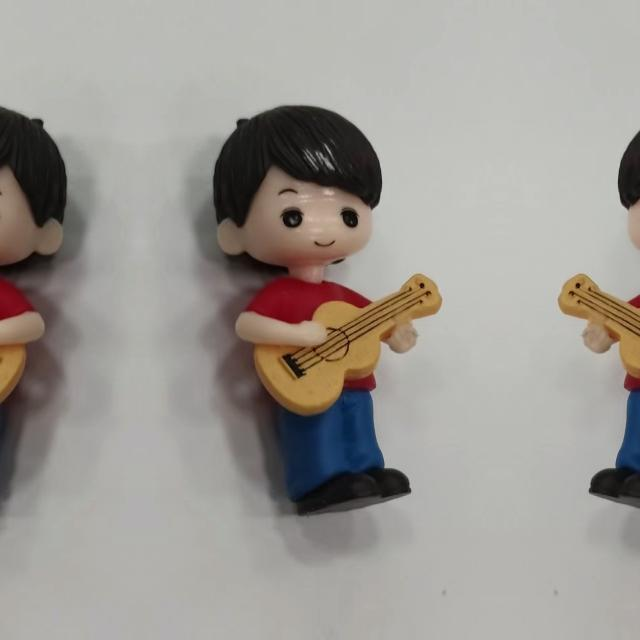man cloth: (246, 275, 394, 393), (605, 275, 640, 393), (0, 275, 34, 393)
man head: (204, 98, 396, 272), (0, 98, 76, 271), (604, 98, 640, 271)
trousers: (278, 385, 418, 517), (582, 385, 640, 517), (0, 385, 1, 517)
